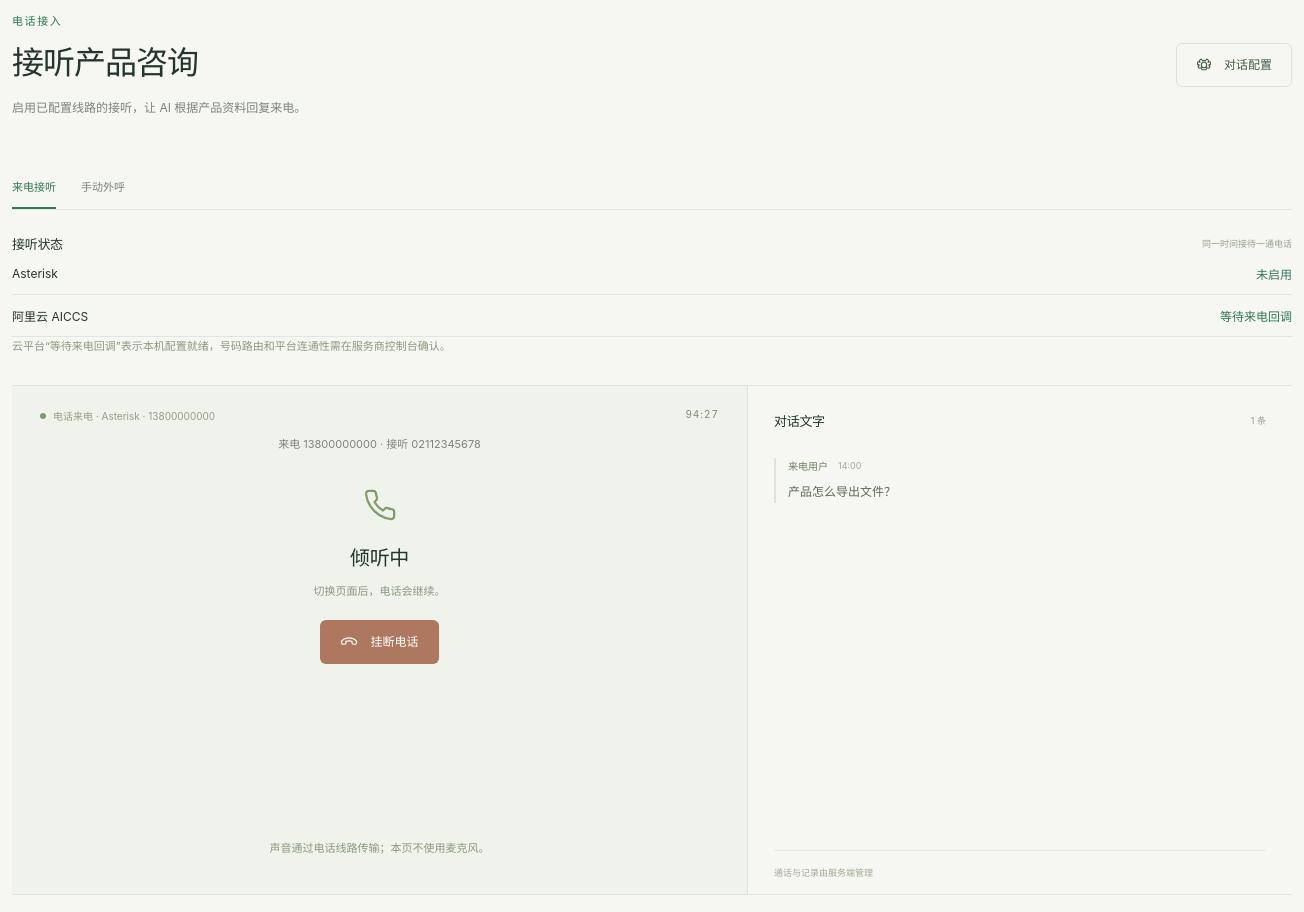
it: 咨询配置和来电监控 › 来电期间显示主被叫号码与咨询模式，可手动结束并保留文字
Check: the text "产品怎么导出文件？" is shown, box left=788, top=484, right=896, bottom=499
Check: the text "来电用户" is shown, box left=788, top=458, right=828, bottom=473
Click the button "挂断电话".
click(380, 642)  # box left=320, top=620, right=438, bottom=664
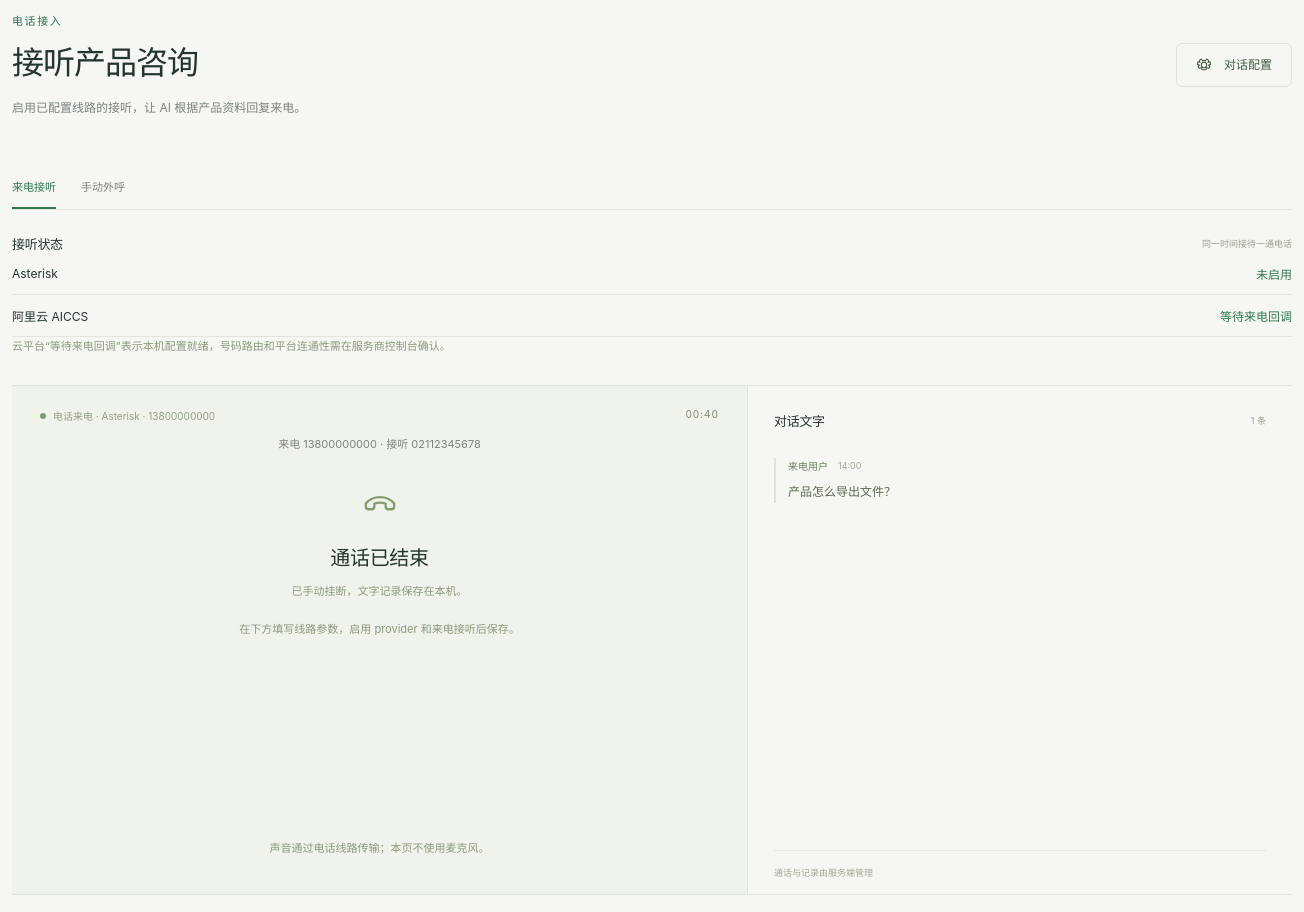
Check: the text "产品怎么导出文件？" is shown, box left=788, top=484, right=896, bottom=499
Check: the heading "通话已结束" is shown, box left=330, top=546, right=429, bottom=570
